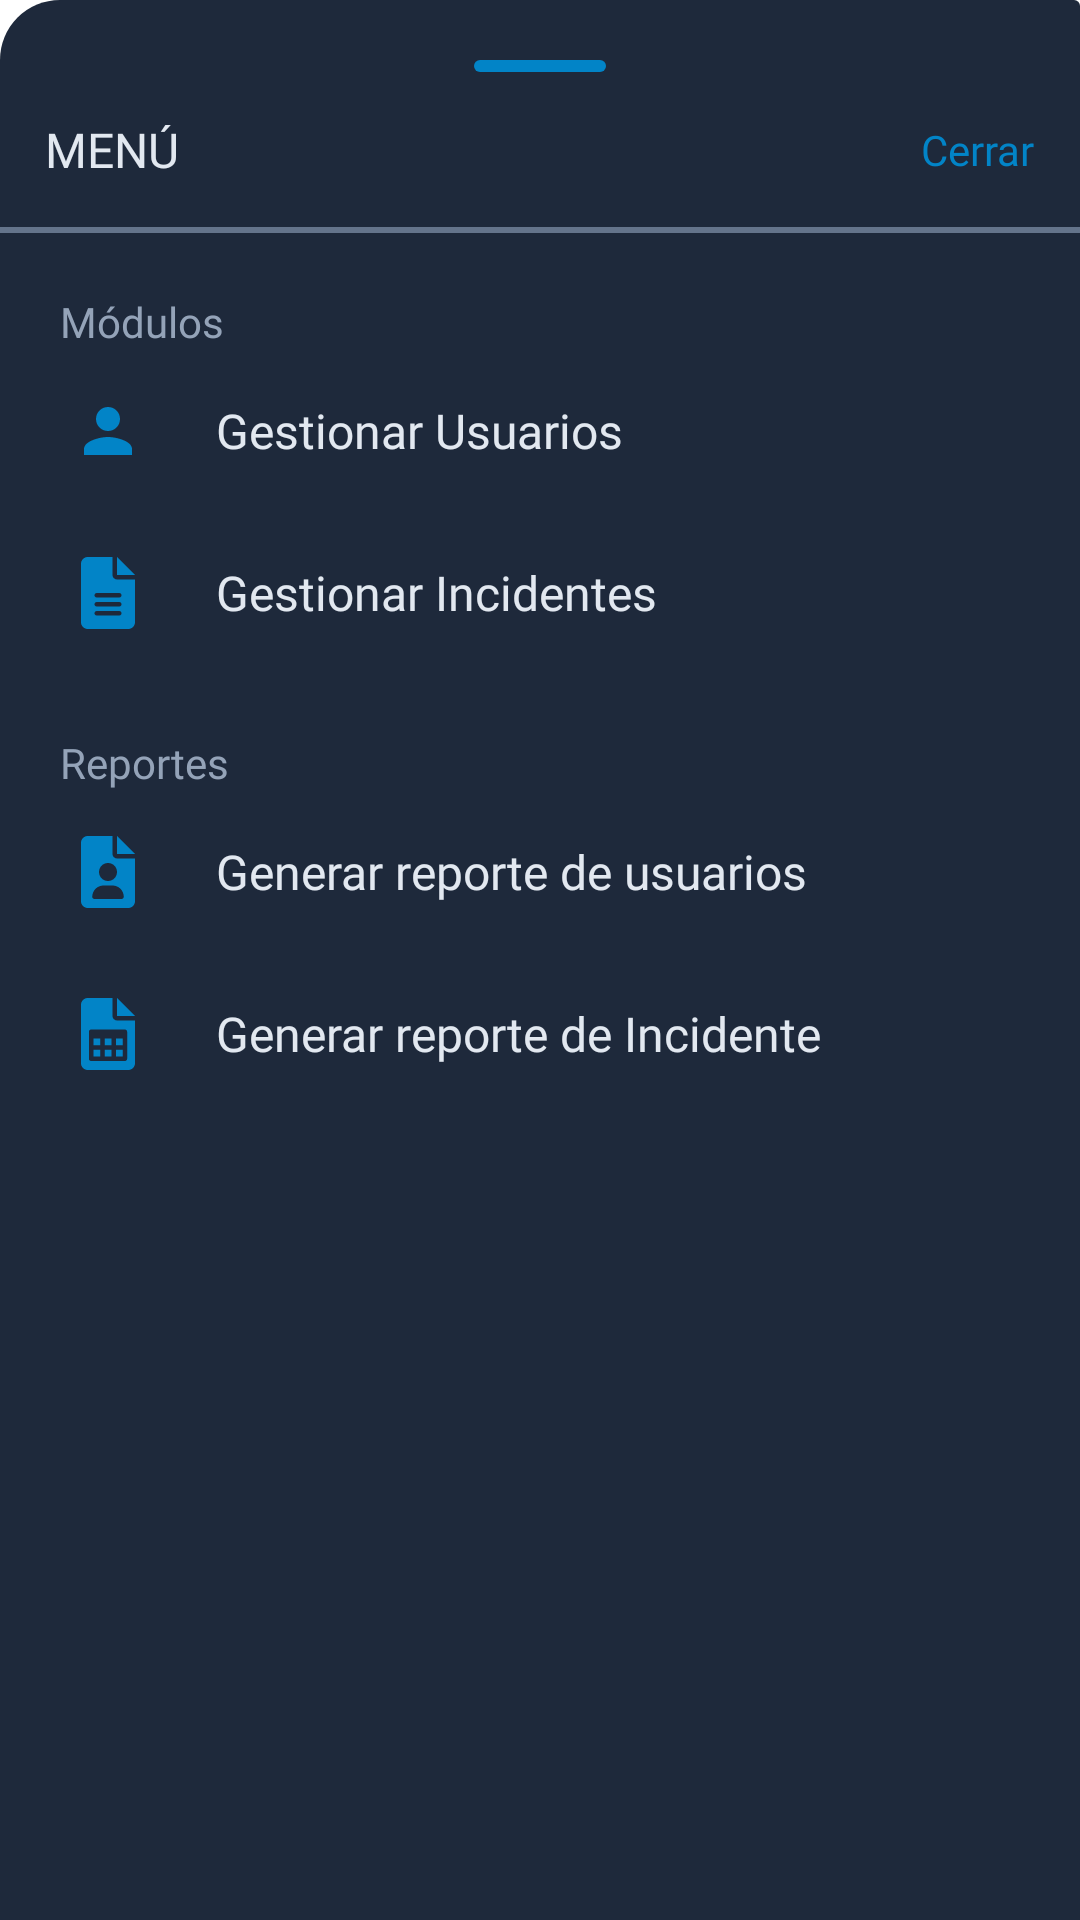

Icon bounding boxes for this 1080w x 1920h phone screenshot, format rect(x1, y1, x2, y2):
file lines: rect(81, 557, 135, 629)
file spreadsheet: rect(81, 998, 135, 1070)
file user: rect(81, 836, 135, 908)
person: rect(84, 407, 132, 455)
